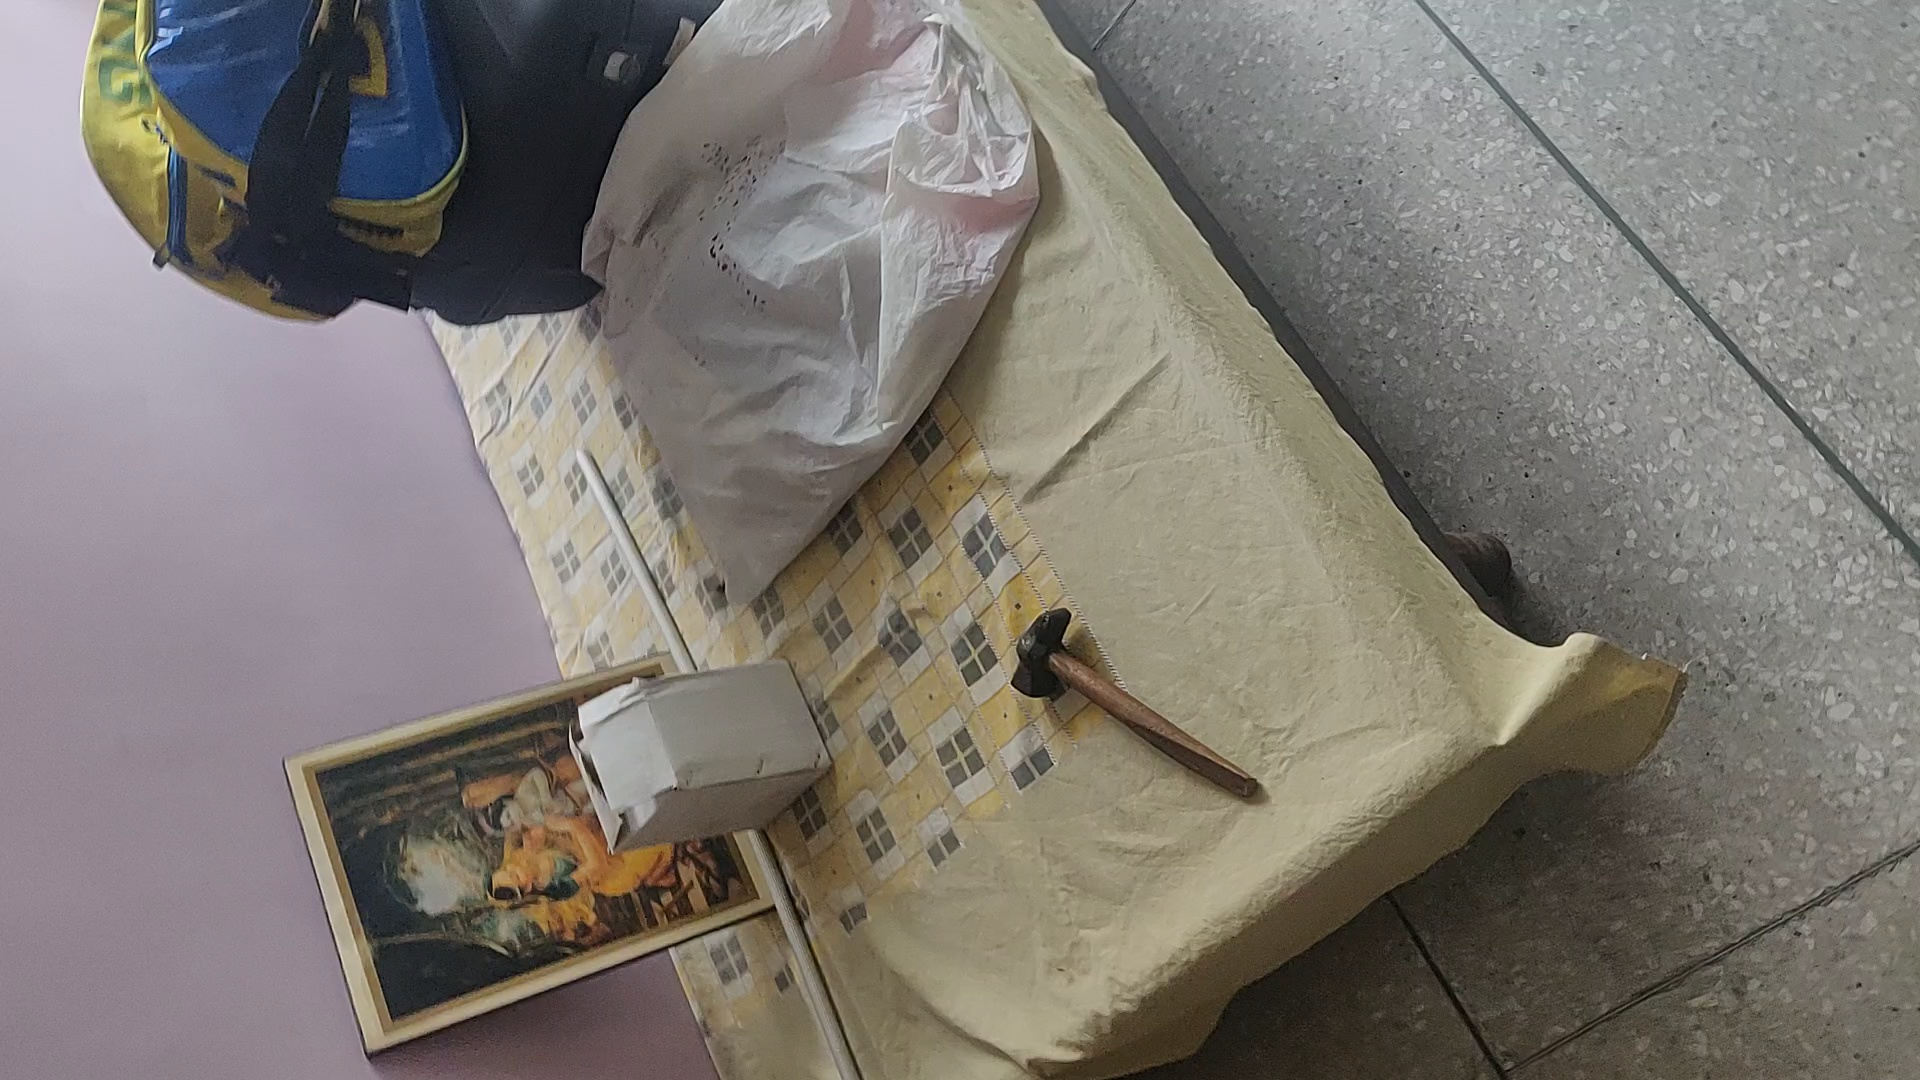hammer: (1006, 605, 1261, 804)
